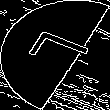L_SE: (16, 30, 94, 80)
